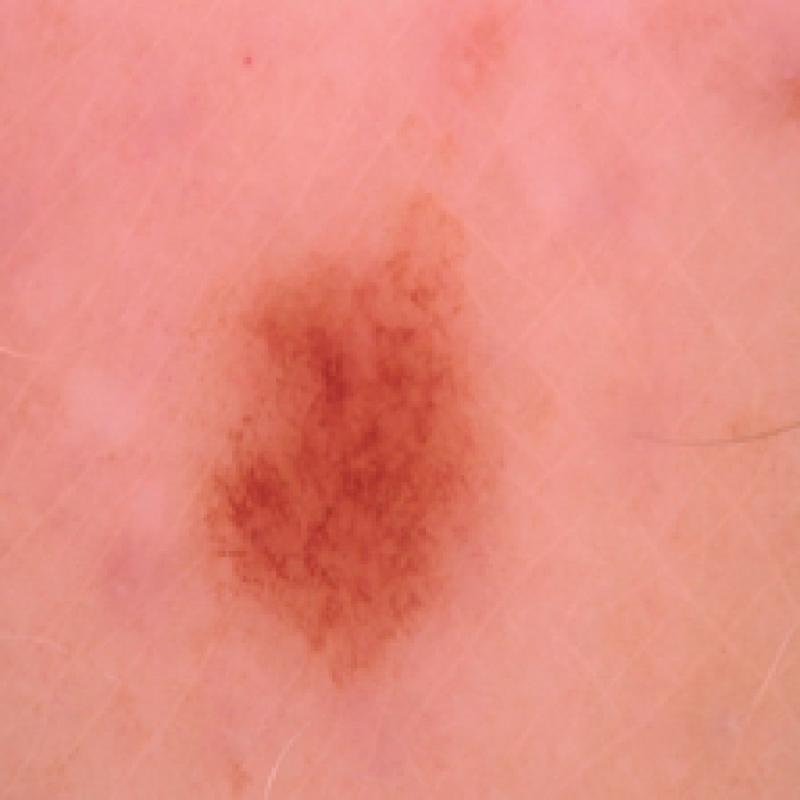benign: (196, 179, 510, 693)
